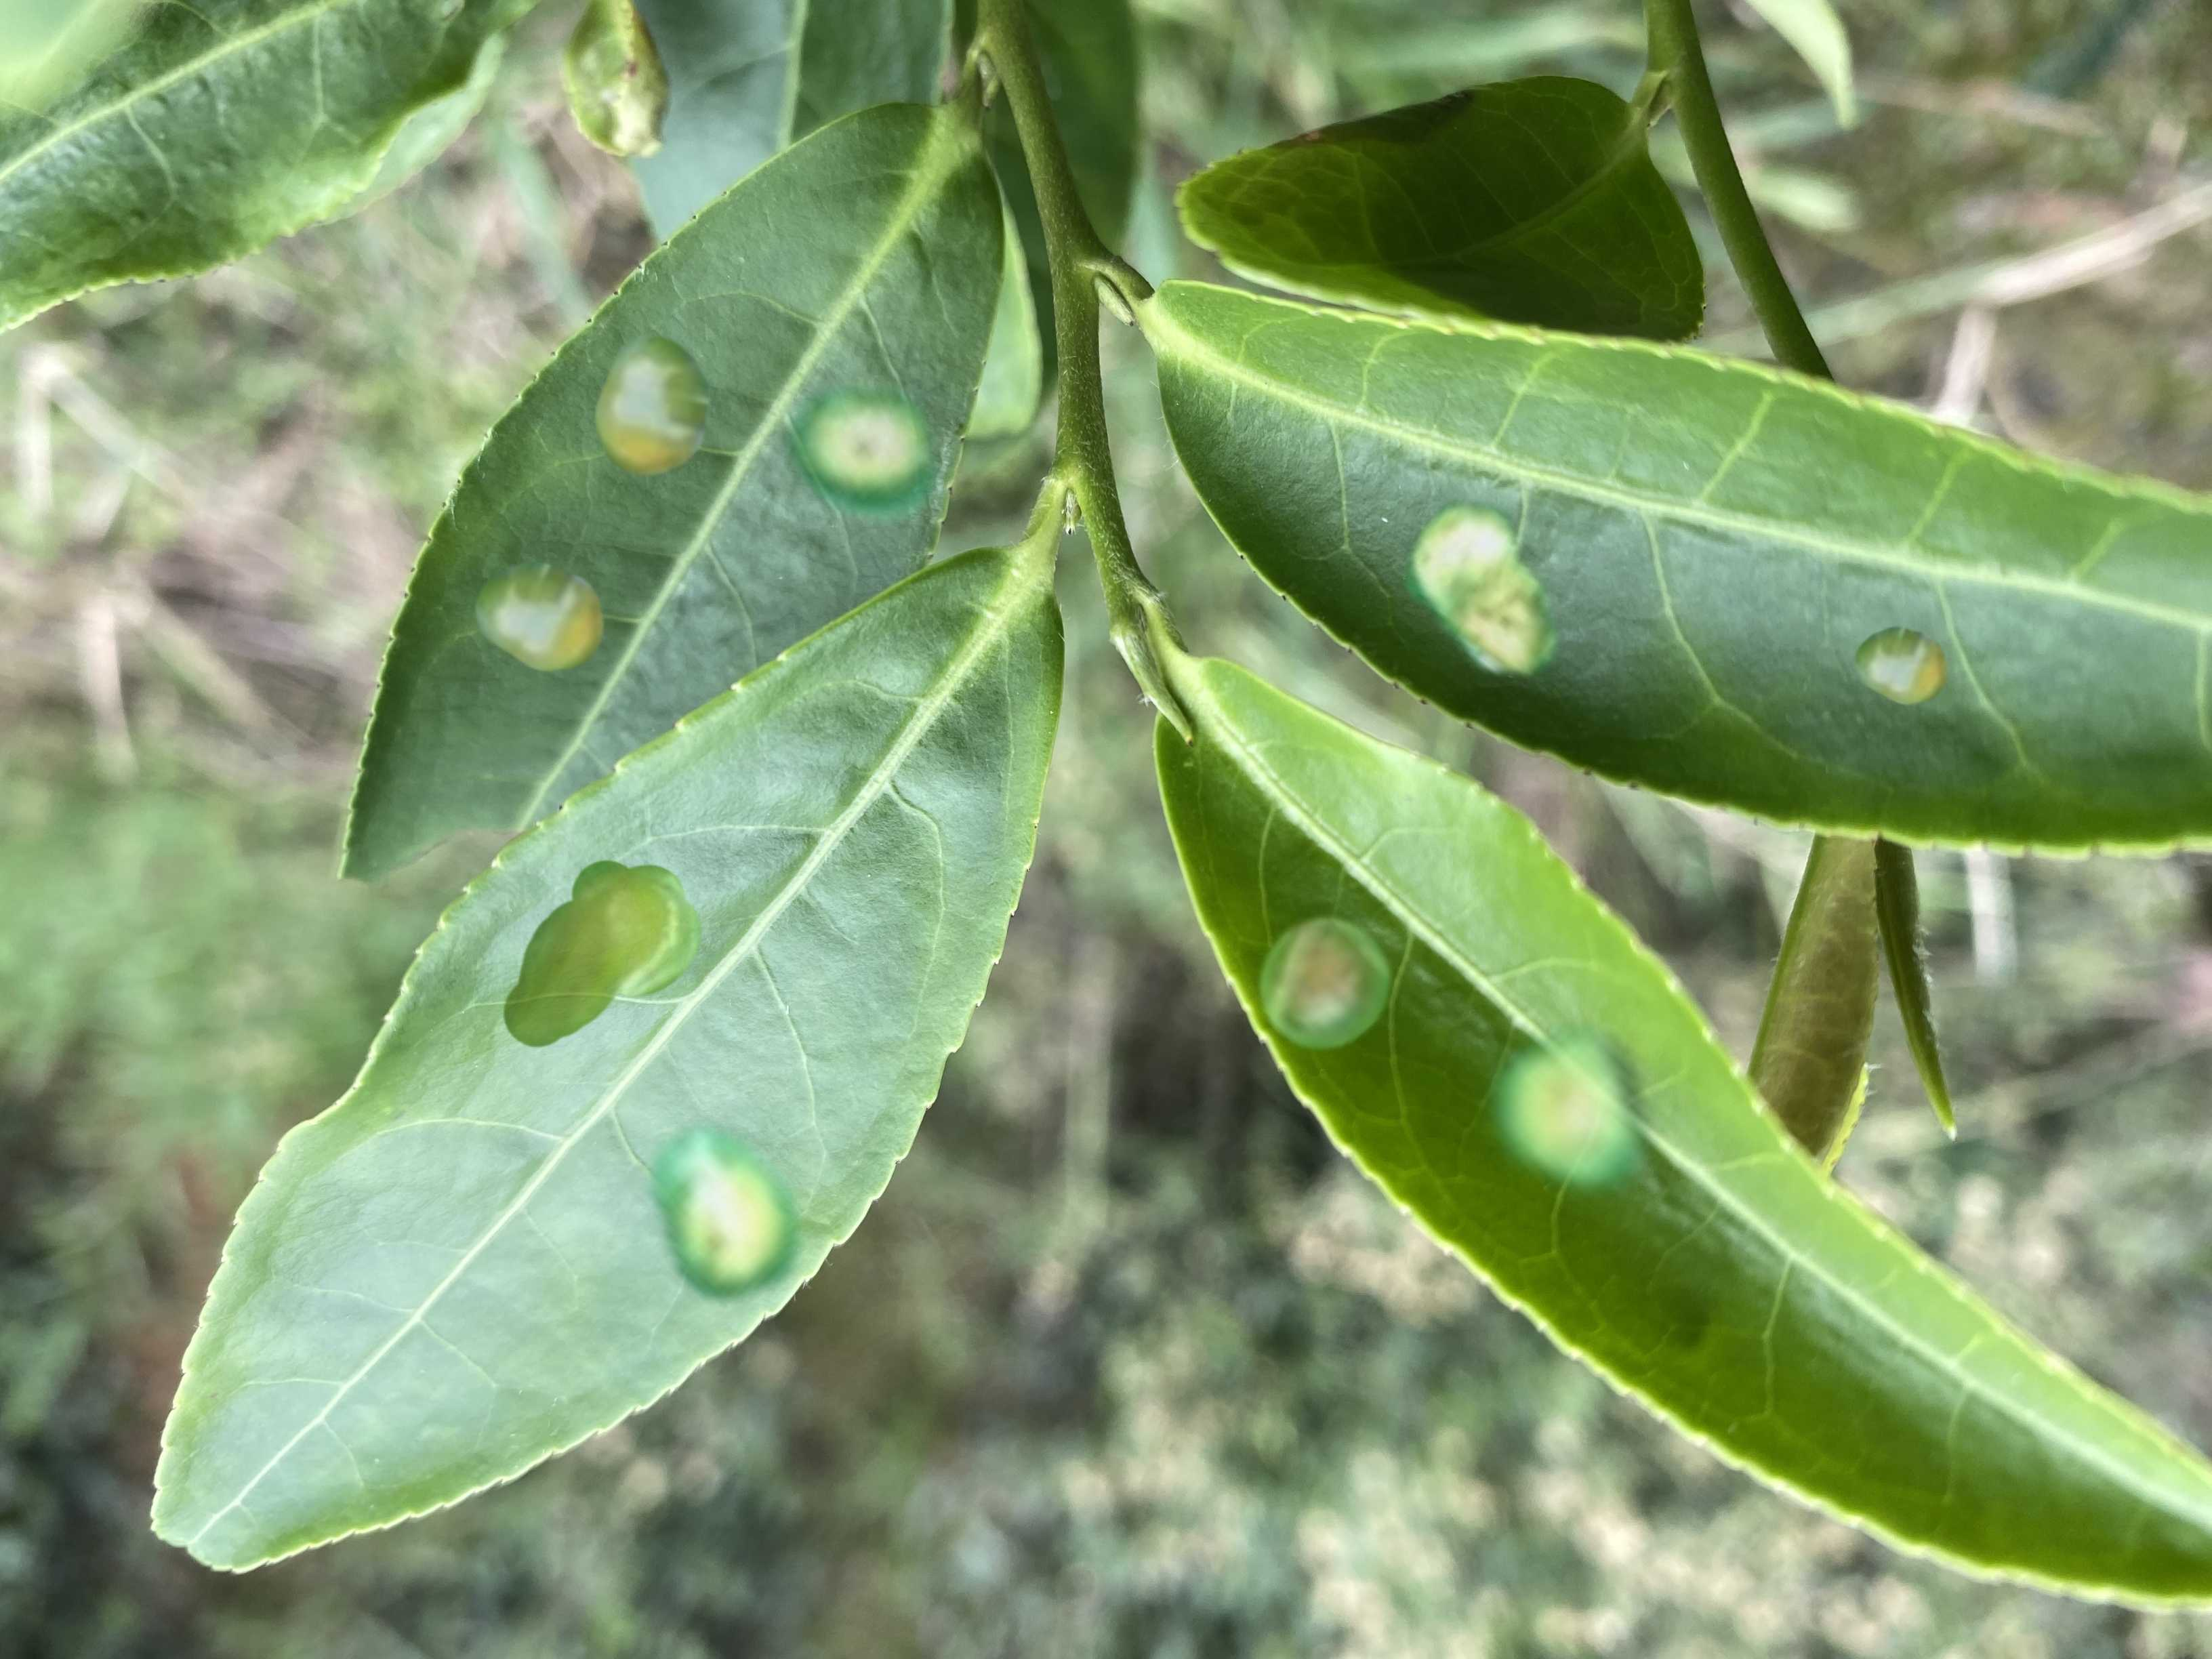chabing_high: (1157, 657, 2212, 1615), (148, 547, 1068, 1577), (1146, 279, 2207, 857), (338, 98, 1010, 836)
